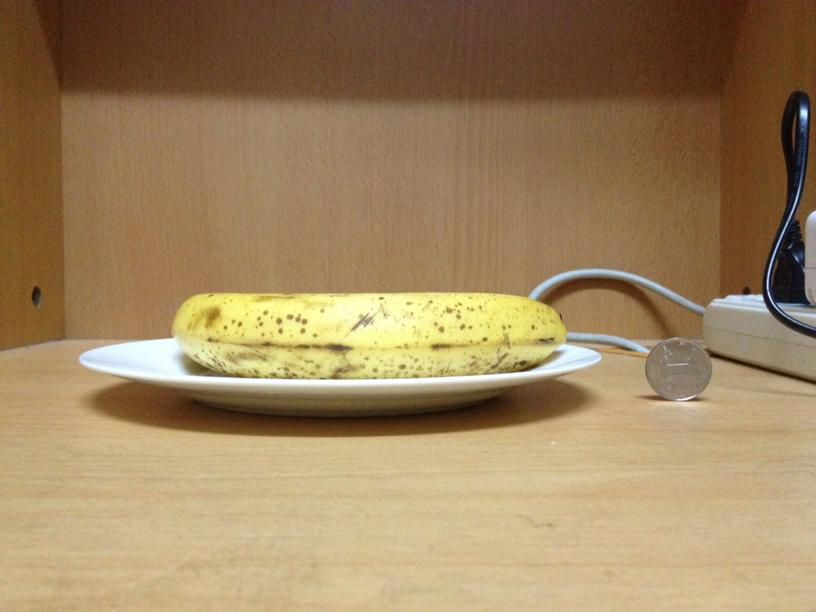banana: (162, 287, 567, 378)
coin: (643, 334, 710, 400)
